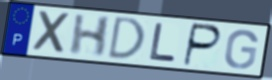D: (105, 15, 147, 60)
G: (223, 28, 260, 71)
H: (68, 14, 114, 59)
L: (148, 21, 179, 63)
P: (181, 22, 223, 68)
X: (32, 9, 74, 55)
